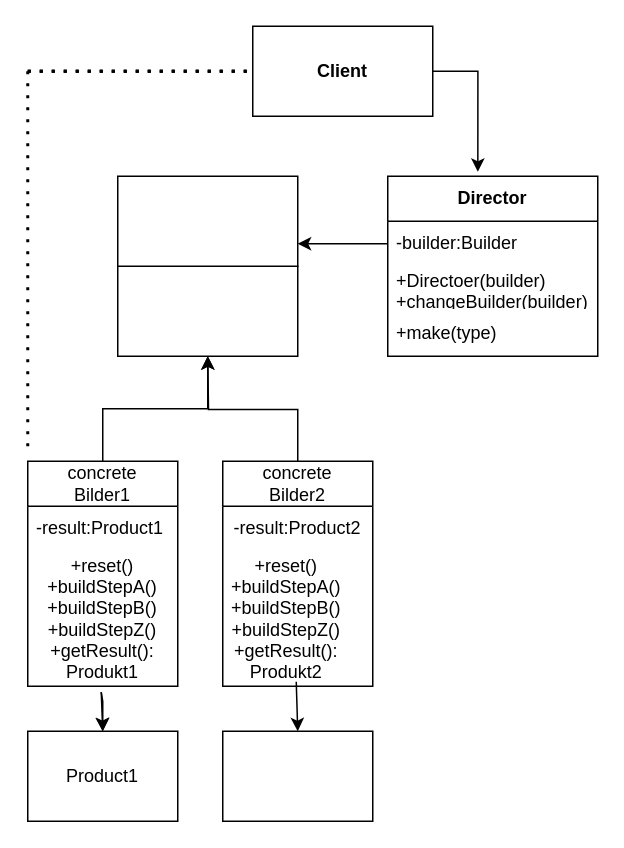
This 624x848 diagram has some shape labels left out. Here are the shapes that lost their labels. From the top down, the centre of each, then its label:
point (207, 220): "interface" Builder
point (207, 310): +reser() +builkderStepA() +builkderStepB() +builkderStepZ()
point (297, 775): Product2
